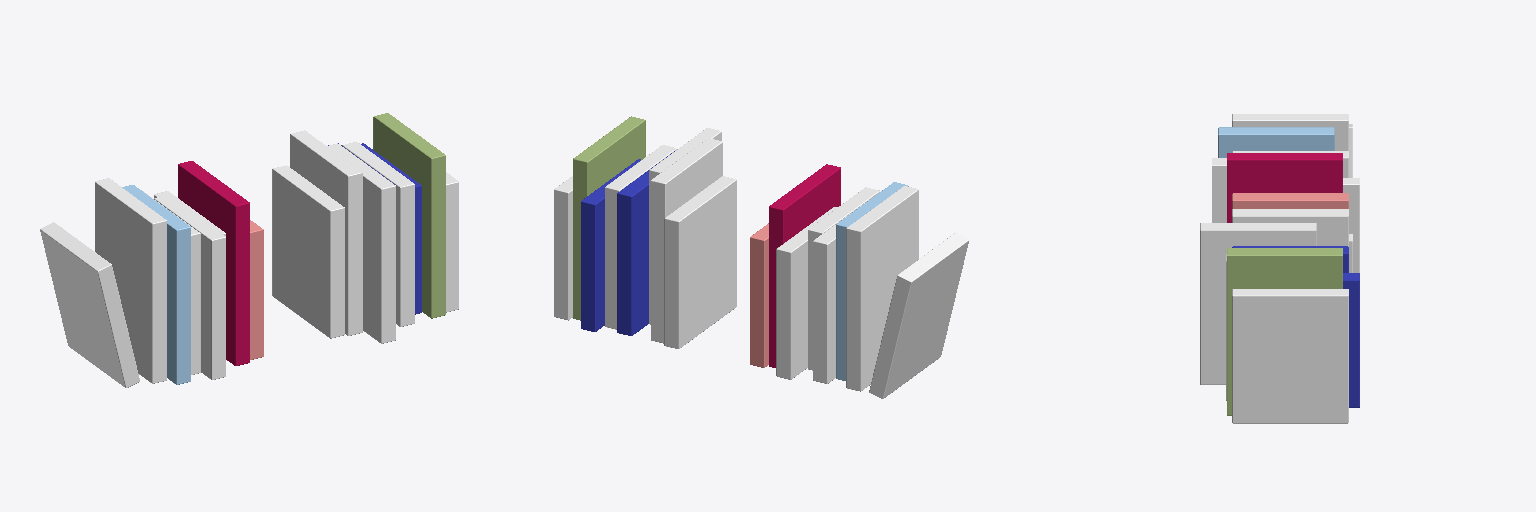
The model's file is book2_1.obj.
3 views of the same model, side by side, from view 1: azimuth 30°, elevation 25°; view 2: azimuth 150°, elevation 25°; view 3: azimuth 270°, elevation 25° (orthographic).
Parts seen in each view (by area): view 1: 立方体.8, 立方体.13, 立方体.12, 立方体.2, 立方体.18, 立方体.6, 立方体.7, 立方体.14, 立方体.16, 立方体.4, 立方体.19, 立方体.1 (+2 smaller); view 2: 立方体.8, 立方体.13, 立方体.12, 立方体.7, 立方体.5, 立方体.17, 立方体.2, 立方体.18, 立方体.15, 立方体.3, 立方体.19, 立方体.1 (+4 smaller); view 3: 立方体.1, 立方体.6, 立方体.2, 立方体.18, 立方体.14, 立方体.7, 立方体.19, 立方体.13, 立方体.3, 立方体.17, 立方体.16.
Boxes of the visible parts, x1,y1,x2,y2 form: 立方体.8: [272, 165, 344, 338]; 立方体.13: [95, 178, 166, 383]; 立方体.12: [40, 222, 139, 387]; 立方体.2: [373, 113, 445, 318]; 立方体.18: [178, 161, 249, 365]; 立方体.6: [327, 143, 395, 343]; 立方体.7: [290, 130, 362, 335]; 立方体.14: [122, 185, 190, 384]; 立方体.16: [154, 195, 225, 379]; 立方体.4: [342, 142, 414, 326]; 立方体.19: [250, 220, 263, 359]; 立方体.1: [446, 172, 458, 312]; 立方体.8: [664, 176, 736, 348]; 立方体.13: [846, 186, 918, 391]; 立方体.12: [869, 233, 968, 398]; 立方体.7: [651, 138, 722, 343]; 立方体.5: [617, 151, 674, 335]; 立方体.17: [776, 207, 837, 379]; 立方体.2: [573, 116, 645, 320]; 立方体.18: [769, 164, 840, 367]; 立方体.15: [813, 200, 868, 383]; 立方体.3: [581, 159, 640, 331]; 立方体.19: [750, 223, 768, 367]; 立方体.1: [554, 176, 572, 320]; 立方体.1: [1232, 289, 1348, 423]; 立方体.6: [1200, 223, 1316, 384]; 立方体.2: [1227, 248, 1342, 415]; 立方体.18: [1227, 153, 1342, 222]; 立方体.14: [1218, 127, 1334, 157]; 立方体.7: [1232, 209, 1348, 246]; 立方体.19: [1232, 193, 1348, 208]; 立方体.13: [1232, 114, 1348, 150]; 立方体.3: [1343, 273, 1359, 407]; 立方体.17: [1343, 178, 1359, 272]; 立方体.16: [1212, 158, 1226, 222].
Bounding box in the file's own units: 94.08 × 40.26 × 36.09.